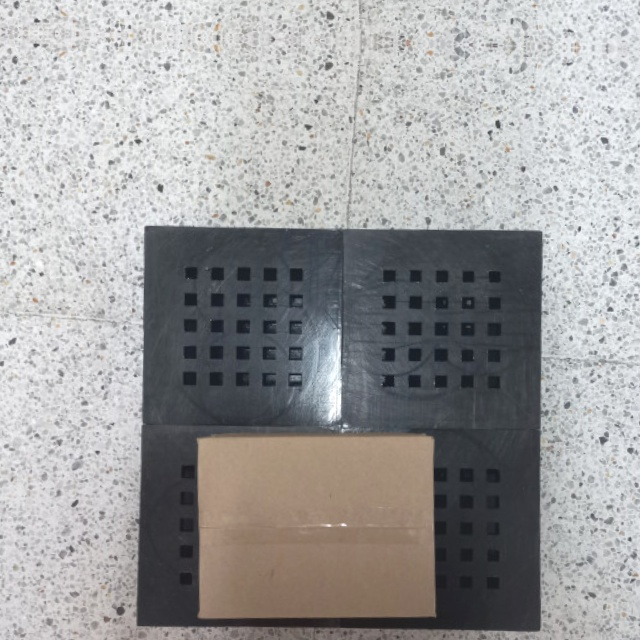box: (195, 431, 440, 624)
pallet: (129, 216, 550, 638)
